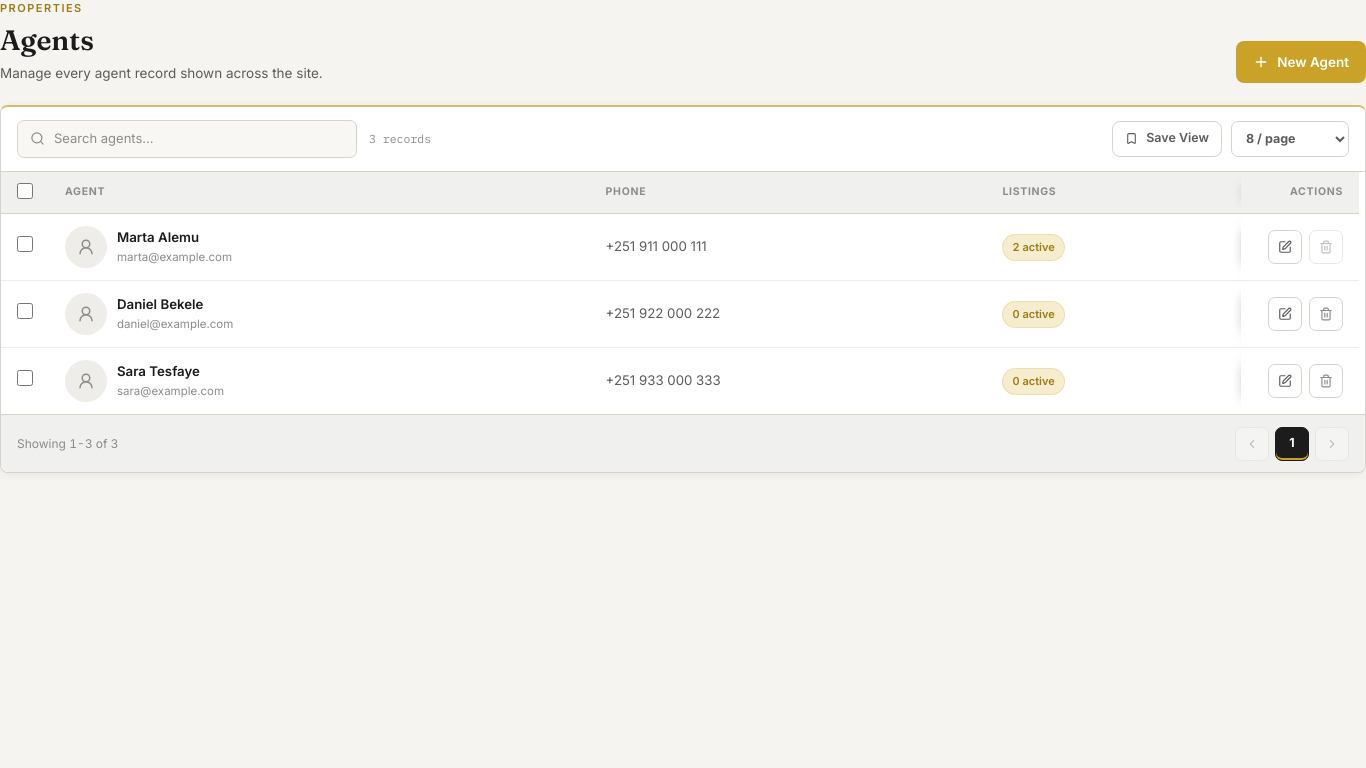
Test: AgentsPage › blocks bulk deletion when a selected agent has active listings
This screenshot has width=1366, height=768.
Expected: the text "Marta Alemu" is shown, [117,229,199,245]
Click the checkbox named "Select Marta Alemu": (25, 244) [17,236,33,252]
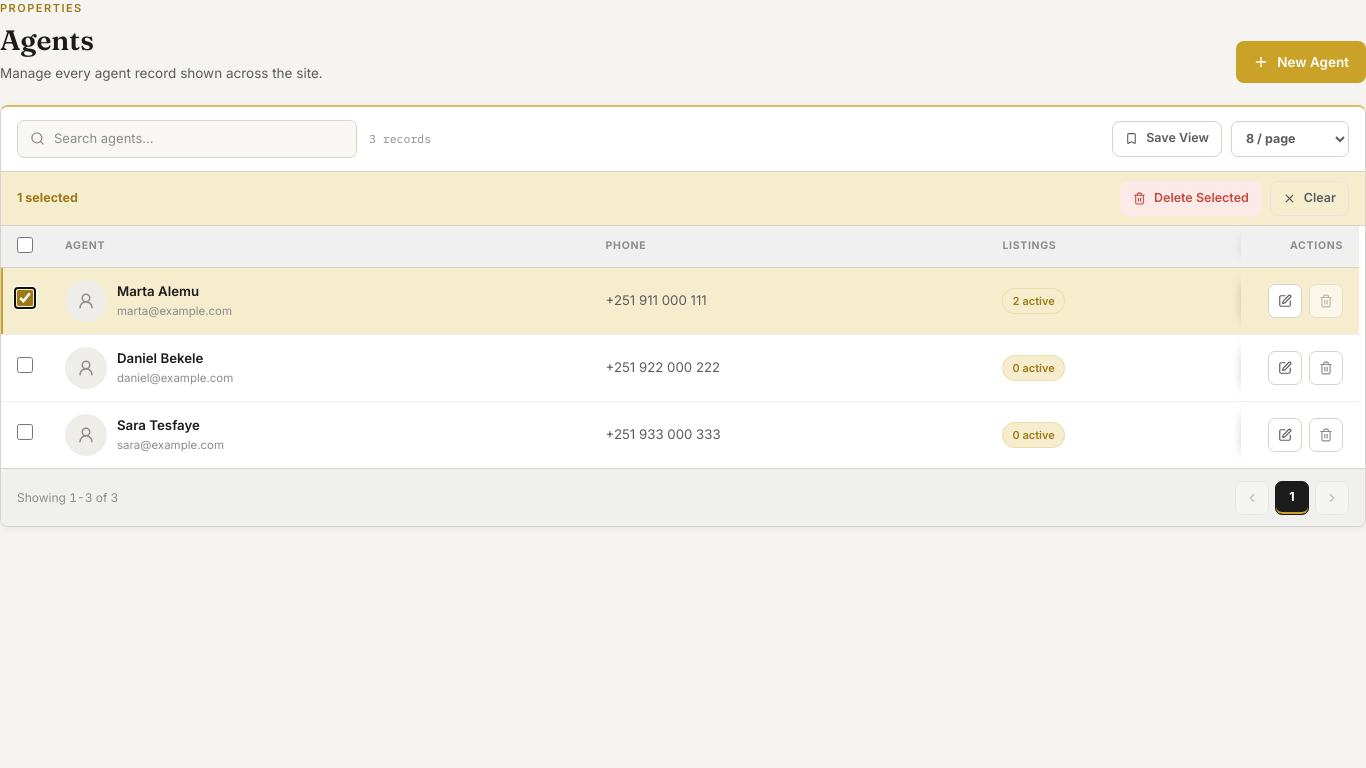
Click the checkbox named "Select Daniel Bekele": (25, 365) [17,357,33,373]
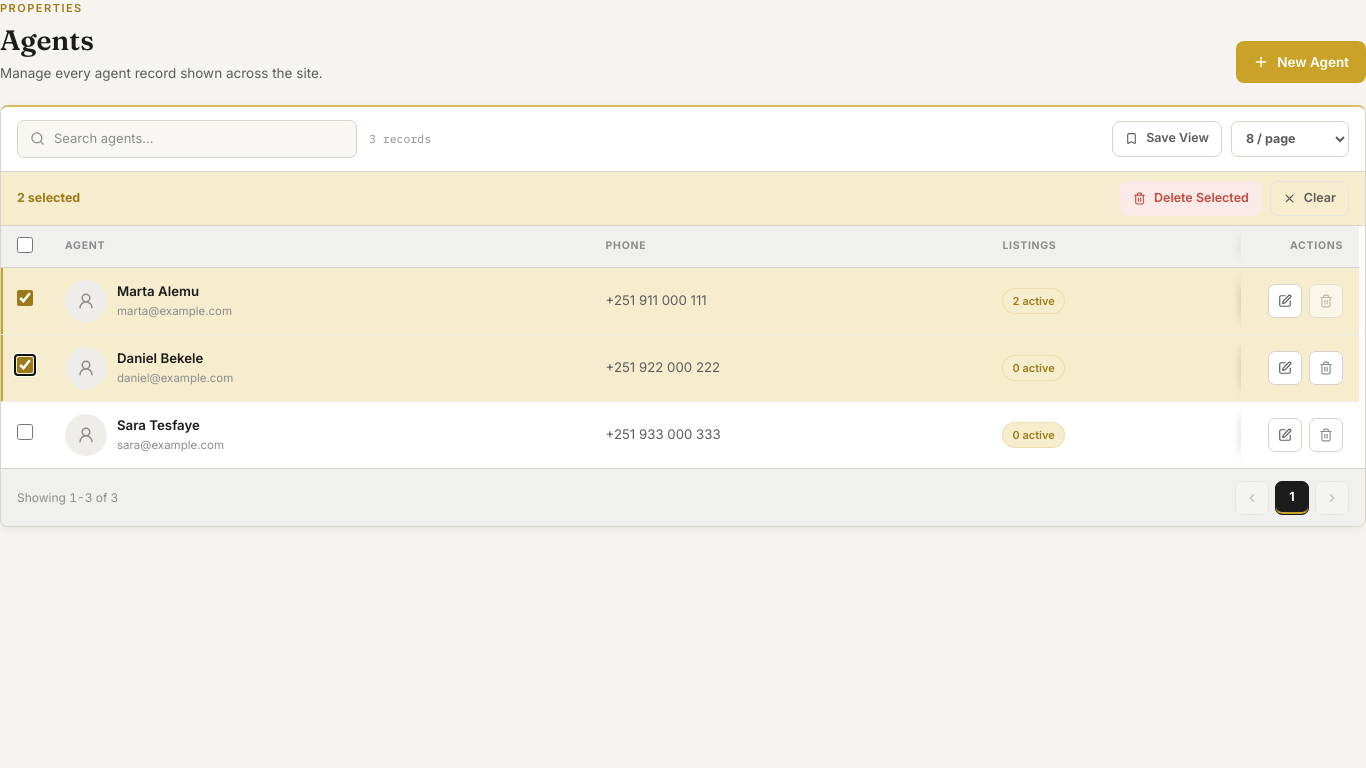
Click the button "Delete Selected": (1191, 198) [1120,181,1262,216]
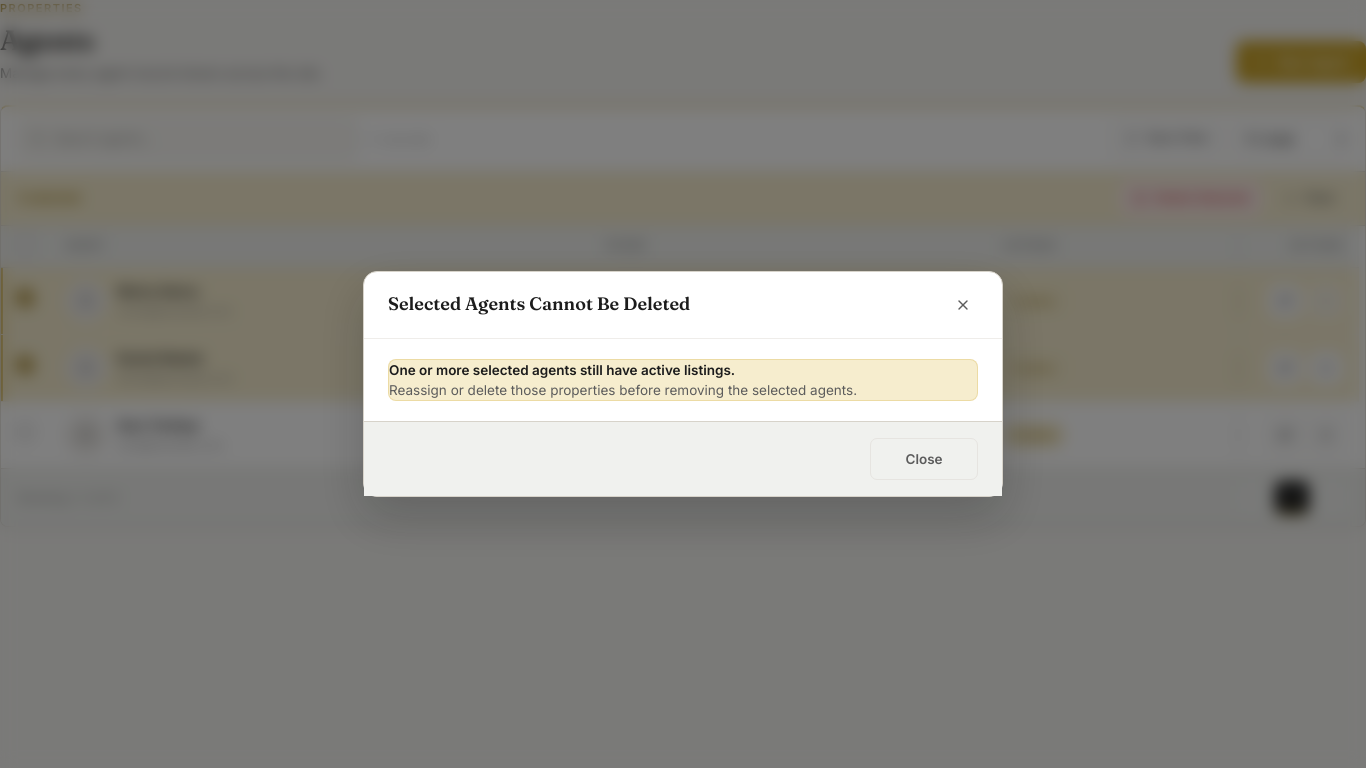
Result: the text "One or more selected agents still have active listings." is shown at [389,362,735,378]
